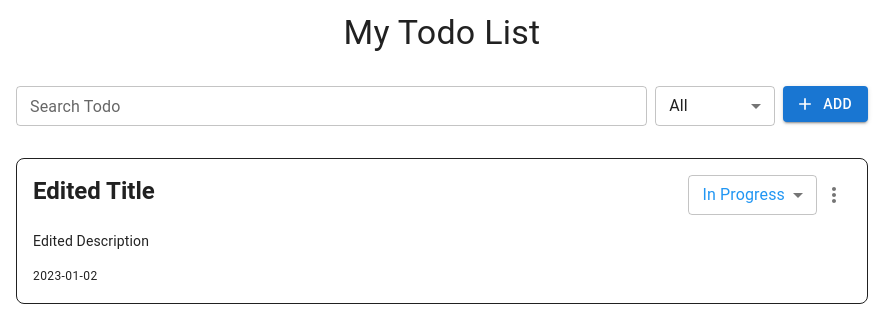
Test: Home › Should be able to search for a todo
The width and height of the screenshot is (886, 321).
Type "New Todo List" into the field.
click(332, 106); type("New Todo List")  # box [16,86,647,126]
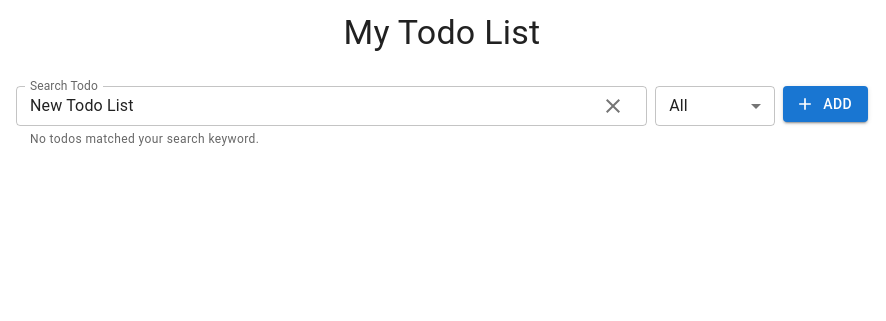
Now the text "No todos matched your search keyword." is shown, box [30,132,259,146]
// Now let's search for the edited title
Replace the text in the field with "Edited Title" at (309, 106), box [16,86,601,126]
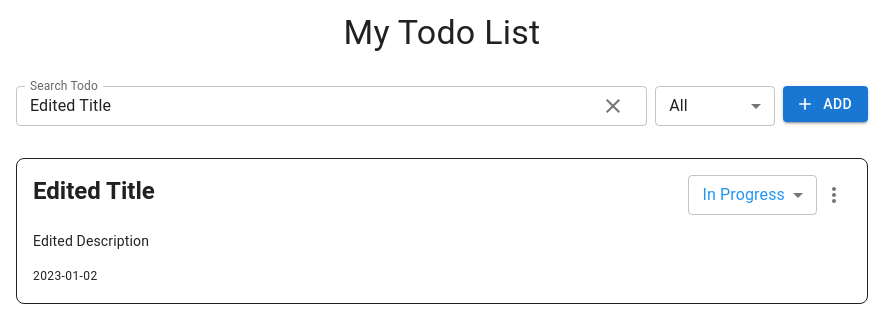
Now the element with test id "todo-0-Edited Title" is shown, box [16,158,868,304]
